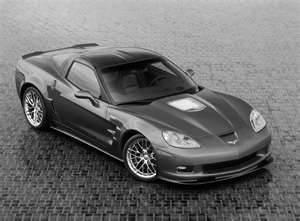car: (14, 43, 277, 192)
